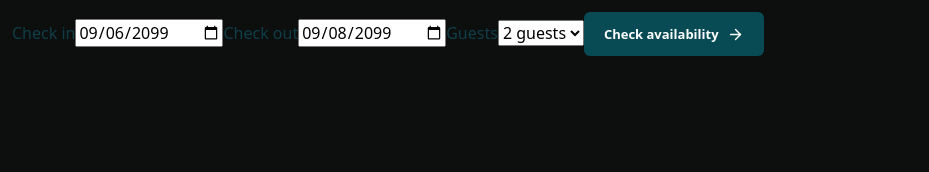
Booking search › flags stale results when the guest count changes
Select "4 guests" in the dropdown labelled "Guests" at (541, 33), box x1=498 y1=20 x2=584 y2=46
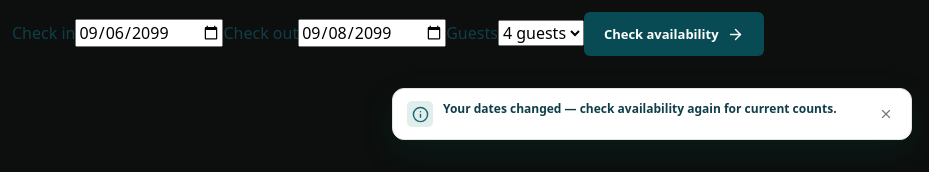
Now the message shows "check availability again", box x1=443 y1=100 x2=837 y2=117
